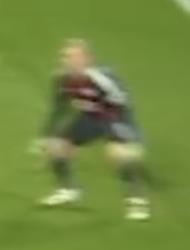goalkeeper: (21, 19, 170, 227)
